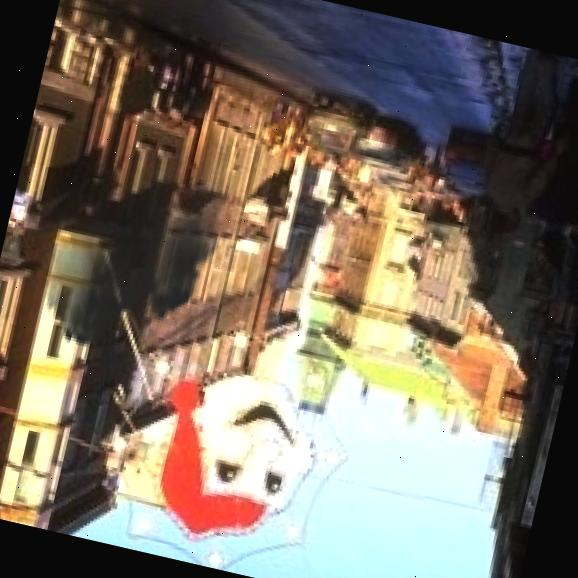smoke: (0, 79, 252, 383)
